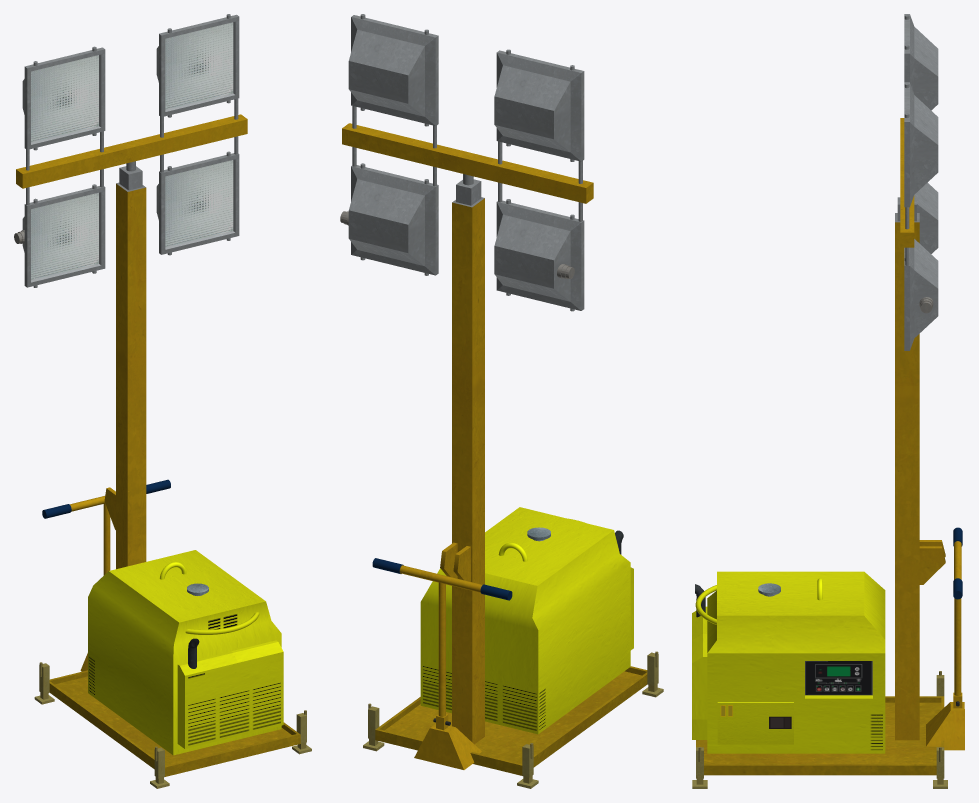
File: Portable_Light.FBX
The picture shows the model from 3 angles, left to right: view 1: azimuth 30°, elevation 25°; view 2: azimuth 150°, elevation 25°; view 3: azimuth 270°, elevation 25°; orthographic projection. The views are drawn at different scales.
Visible parts, largest first — view 1: Box016, Box017, Box025, Box029, Box028, Box022, Box027, Box001, Box018, Cylinder002; view 2: Box016, Box017, Box029, Box022, Box027, Box028, Box001, Box018, Box002, Cylinder002, Cylinder001; view 3: Box016, Box017, Box001, Box026, Box022, Box027, Box029, Box025, Box002, Box028, Box018, Box023 (+2 smaller).
Part boxes in pixels (<box>): Box016: <box>88,550,281,755</box>; Box017: <box>116,166,146,569</box>; Box025: <box>177,640,283,748</box>; Box029: <box>22,47,105,149</box>; Box028: <box>22,186,105,287</box>; Box022: <box>156,14,239,116</box>; Box027: <box>156,153,239,254</box>; Box001: <box>49,670,300,776</box>; Box018: <box>16,114,247,188</box>; Cylinder002: <box>42,479,170,518</box>; Box016: <box>420,507,630,734</box>; Box017: <box>452,179,484,744</box>; Box029: <box>494,50,584,161</box>; Box022: <box>348,15,438,125</box>; Box027: <box>348,165,438,275</box>; Box028: <box>494,200,584,310</box>; Box001: <box>375,666,647,775</box>; Box018: <box>342,123,593,203</box>; Box002: <box>414,724,481,769</box>; Cylinder002: <box>372,558,512,600</box>; Cylinder001: <box>438,582,445,716</box>; Box016: <box>707,571,885,753</box>; Box017: <box>895,197,919,740</box>; Box001: <box>696,696,944,775</box>; Box026: <box>717,702,793,744</box>; Box022: <box>904,82,938,207</box>; Box027: <box>904,239,938,350</box>; Box029: <box>904,14,938,110</box>; Box025: <box>692,606,707,739</box>; Box002: <box>926,702,964,750</box>; Box028: <box>914,182,938,254</box>; Box018: <box>900,118,914,247</box>; Box023: <box>919,546,945,584</box>.
Size of the model in its own units: 50.03 by 139 by 50.31.
1 material, 1 textured.
